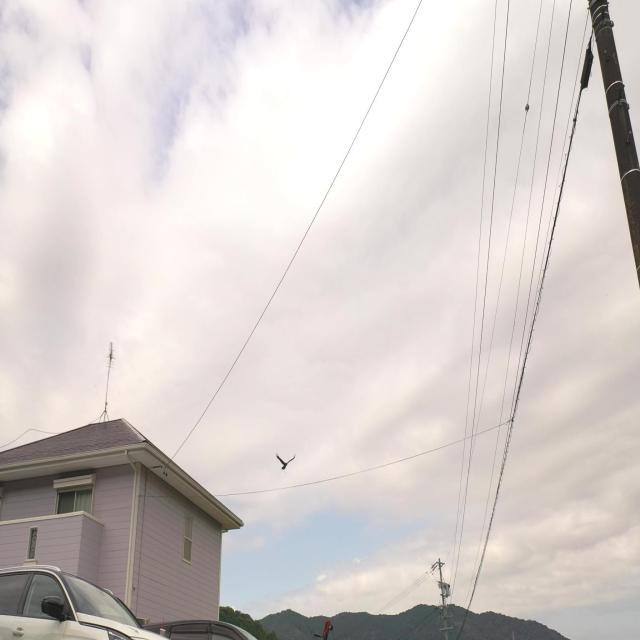Birds: (272, 442, 298, 482)
